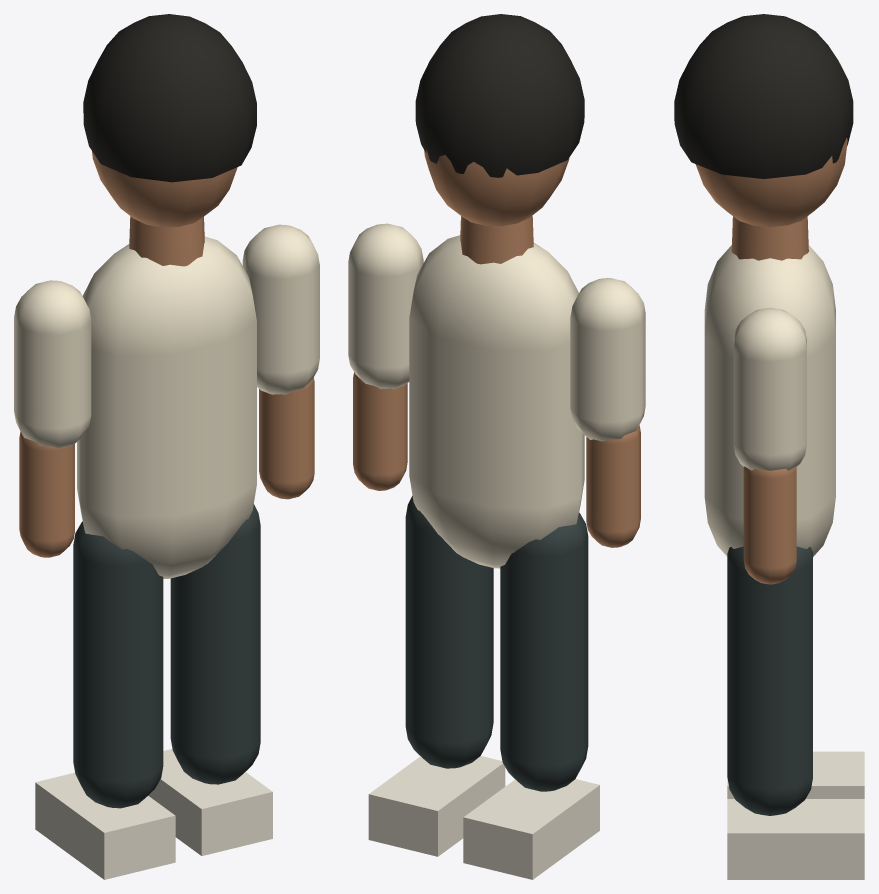
File: gaurav.glb
The picture shows the model from 3 angles, left to right: view 1: azimuth 30°, elevation 25°; view 2: azimuth 150°, elevation 25°; view 3: azimuth 270°, elevation 25°; orthographic projection. The views are drawn at different scales.
Parts seen in each view (by area): view 1: Torso, Trouser (×2), Hair, Sleeve (×2), Sneaker (×2), Forearm (×2), Head, Neck; view 2: Torso, Trouser (×2), Hair, Sleeve (×2), Sneaker (×2), Forearm (×2), Head, Neck; view 3: Hair, Torso, Trouser, Sneaker (×2), Sleeve, Forearm, Head, Neck.
Part boxes in pixels (box(x1,y1,x2,y2)): Torso: box(77, 236, 256, 578); Trouser (×2): box(73, 504, 260, 808); Hair: box(83, 14, 256, 182); Sleeve (×2): box(14, 224, 319, 448); Sneaker (×2): box(35, 749, 272, 879); Forearm (×2): box(19, 377, 314, 557); Head: box(92, 151, 237, 227); Neck: box(129, 216, 204, 266); Torso: box(409, 235, 584, 568); Trouser (×2): box(405, 496, 588, 791); Hair: box(415, 14, 584, 177); Sleeve (×2): box(348, 223, 645, 441); Sneaker (×2): box(368, 756, 599, 879); Forearm (×2): box(353, 372, 640, 547); Head: box(424, 149, 569, 226); Neck: box(460, 215, 533, 264); Hair: box(674, 14, 853, 178); Torso: box(704, 245, 835, 556); Trouser: box(727, 546, 812, 815); Sneaker (×2): box(727, 751, 864, 879); Sleeve: box(733, 307, 806, 470); Forearm: box(743, 466, 796, 584); Head: box(695, 137, 847, 227); Neck: box(731, 216, 808, 260).
Size of the model in its own units: 0.79 by 2.11 by 0.4437.
